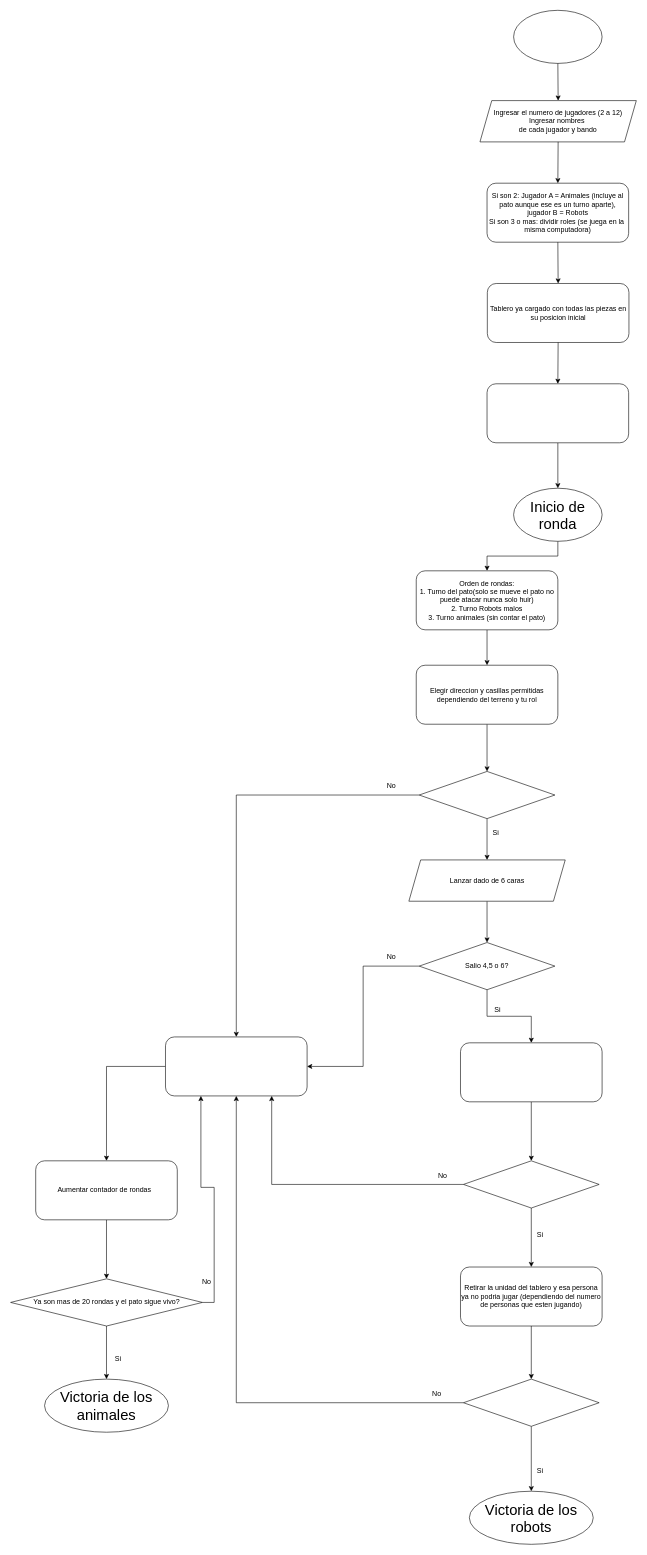
Some shapes in this 647 by 1555 pixel diagram are drawn without their labels. Here are the shapes that lost their labels. From the top down, the centre of each, then its label:
At [557,36]: "Inicio".
At [557,413]: "Contador de rondas = 1 (maximo 20}".
At [487,795]: "Hay enemigo al frente o adyacente?".
At [236,1066]: "Turno del siguiente jugador".
At [531,1072]: "Realizar ataque (si se desea) Aplicar daño dependiendo de tu rol".
At [531,1184]: "El objetivo quedo sin vidas?".
At [531,1402]: "La unidad eliminada es el pato?".
